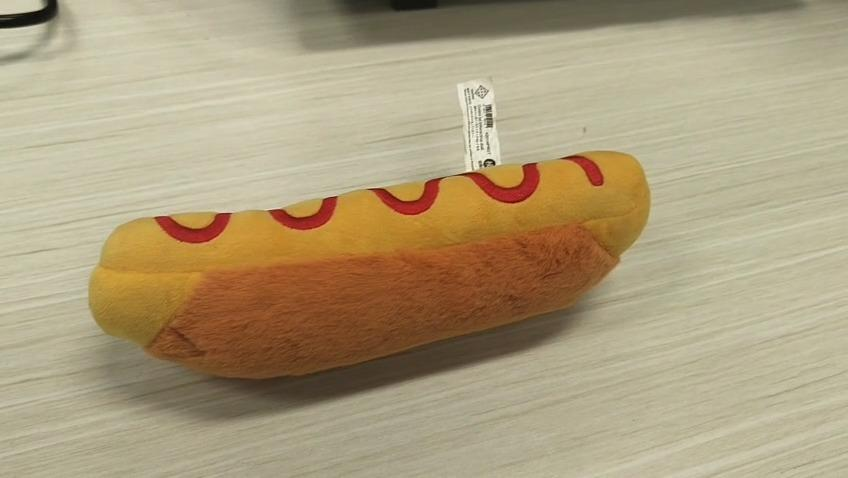hotdog: (87, 148, 651, 380)
